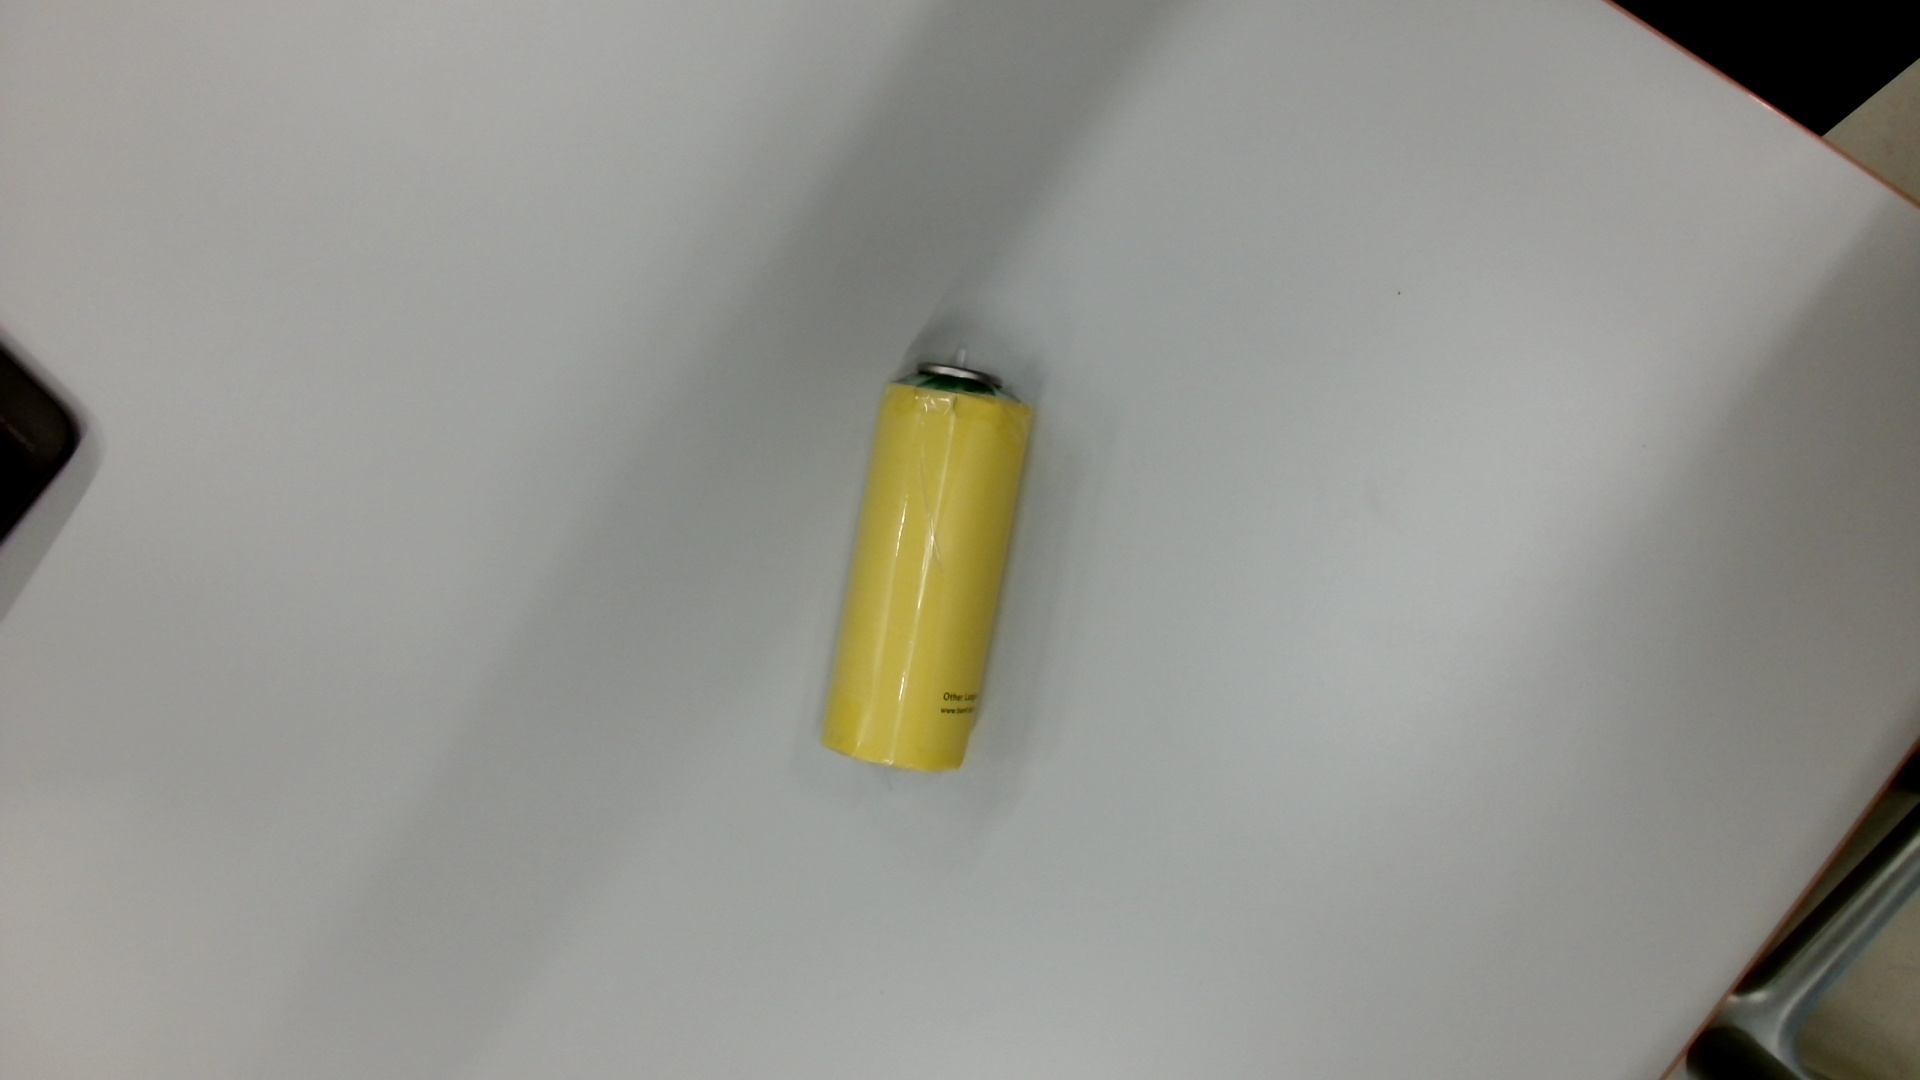Cylinder: (806, 332, 1051, 787)
